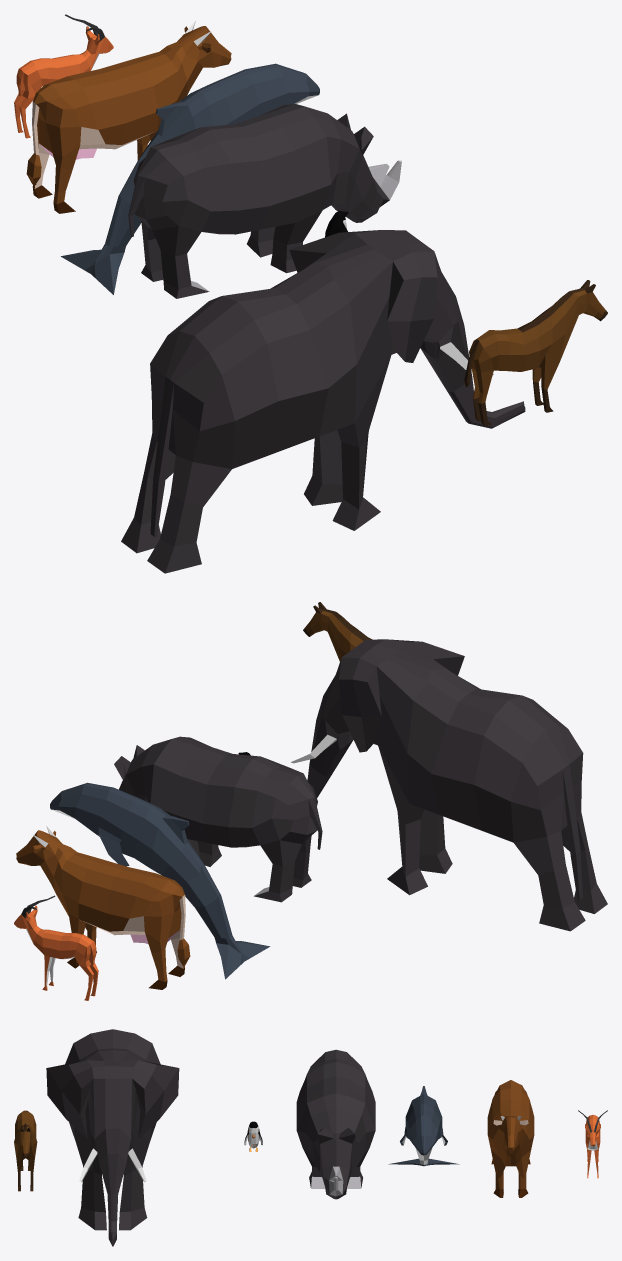
File: horse.gltf
3 renders of one model, top to bottom at view 1: azimuth 30°, elevation 25°; view 2: azimuth 150°, elevation 25°; view 3: azimuth 270°, elevation 25°, orthographic. The views are drawn at different scales.
Visible parts, largest first — view 1: Elephant, Rhino, Cow, Dolphin, Horse, Gazelle; view 2: Elephant, Rhino, Cow, Dolphin, Gazelle, Horse; view 3: Elephant, Rhino, Cow, Dolphin, Horse, Gazelle, Penguin.
Boxes of the visible parts, x1,y1,x2,y2 form: Elephant: (121,230,525,573); Rhino: (128,104,401,298); Cow: (26,20,231,213); Dolphin: (61,63,319,294); Horse: (464,280,607,425); Gazelle: (14,14,113,138); Elephant: (291,639,607,931); Rhino: (114,736,322,902); Cow: (16,826,190,989); Dolphin: (50,782,270,979); Gazelle: (14,895,98,1000); Horse: (303,602,372,661); Elephant: (46,1029,179,1246); Rhino: (296,1049,375,1199); Cow: (487,1080,534,1197); Dolphin: (388,1086,459,1166); Horse: (14,1110,37,1191); Gazelle: (578,1110,607,1178); Penguin: (244,1121,262,1151).
Size of the model in its own units: 5.54 by 3.2 by 9.88.
